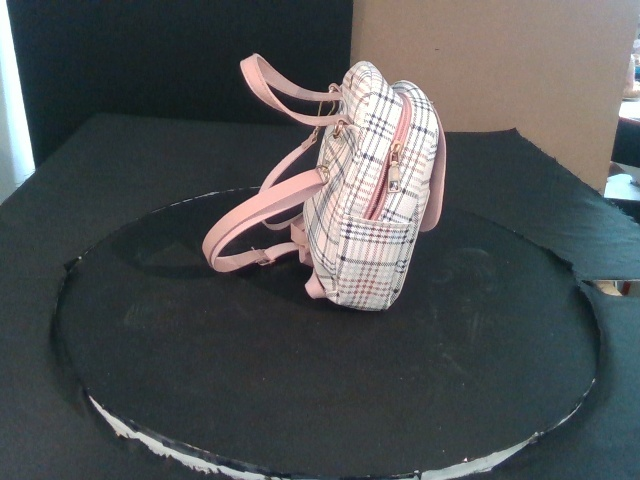bag: (302, 60, 445, 312)
